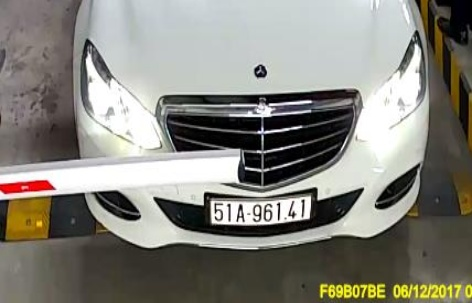plate: (197, 192, 321, 231)
